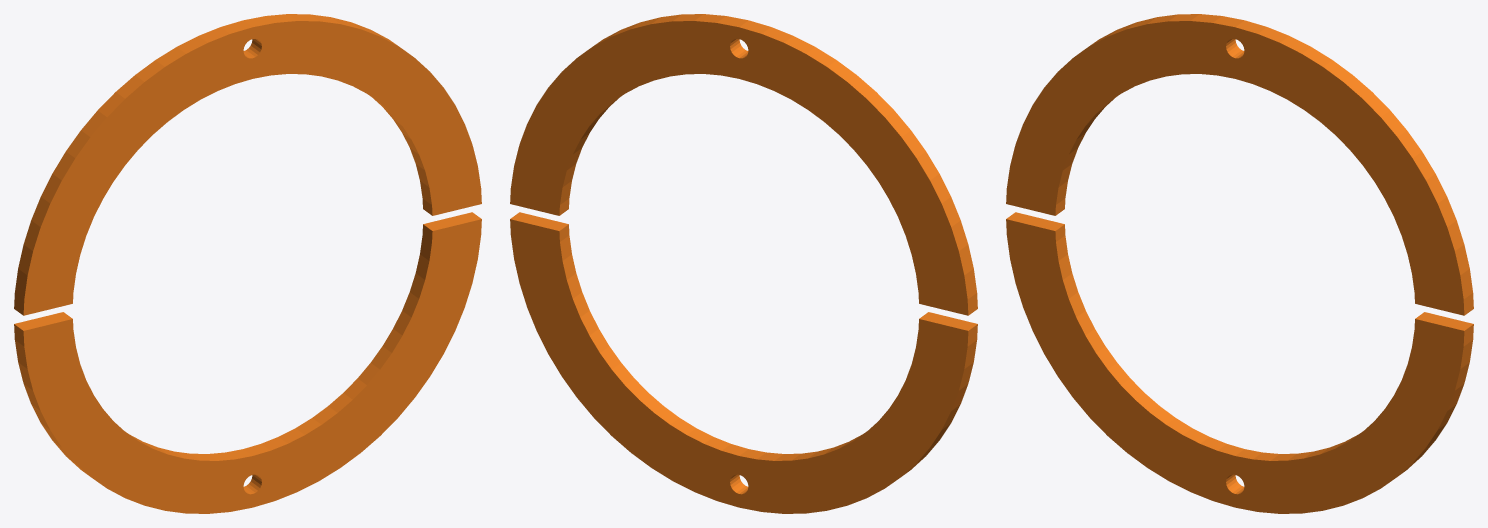
File: Button-Halbkreise.obj
3 renders of one model, left to right at view 1: azimuth 30°, elevation 25°; view 2: azimuth 150°, elevation 25°; view 3: azimuth 330°, elevation 25°, orthographic.
Visible parts, largest first — view 1: obj_0; view 2: obj_0; view 3: obj_0.
Part boxes in pixels (bbox=[...]): obj_0: bbox=[14, 14, 481, 513]; obj_0: bbox=[510, 14, 977, 513]; obj_0: bbox=[1006, 14, 1473, 513].
Bounding box in the file's own units: 74.85 × 74.97 × 2.69.
